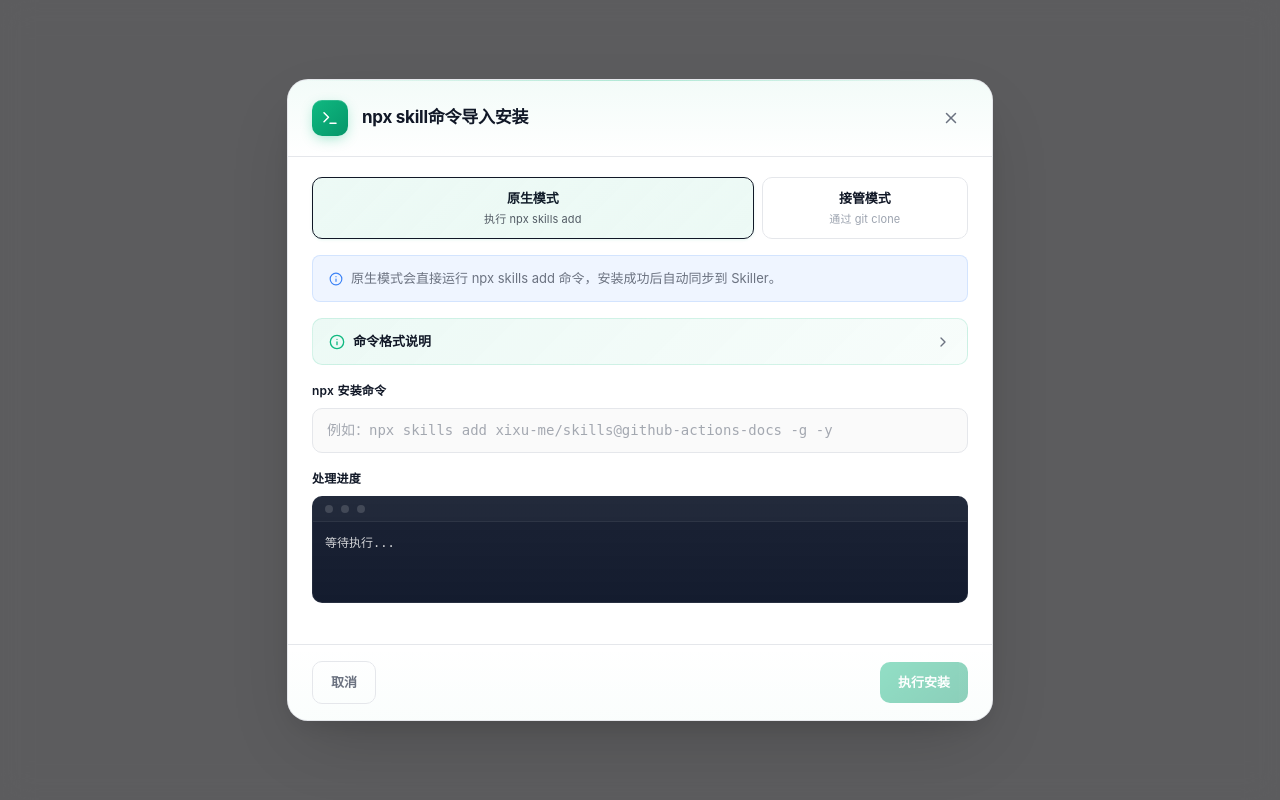
Test case: NpxImportDialog - Native Mode Error Handling › should show friendly error when skill directory does not exist during sync
Type "npx skills add xixu-me/skills@github-actions-docs -g -y" into the field with placeholder "例如：npx skills add xixu-me/skills@github-actions-docs -g -y" at (640, 430), box [312, 408, 968, 453]
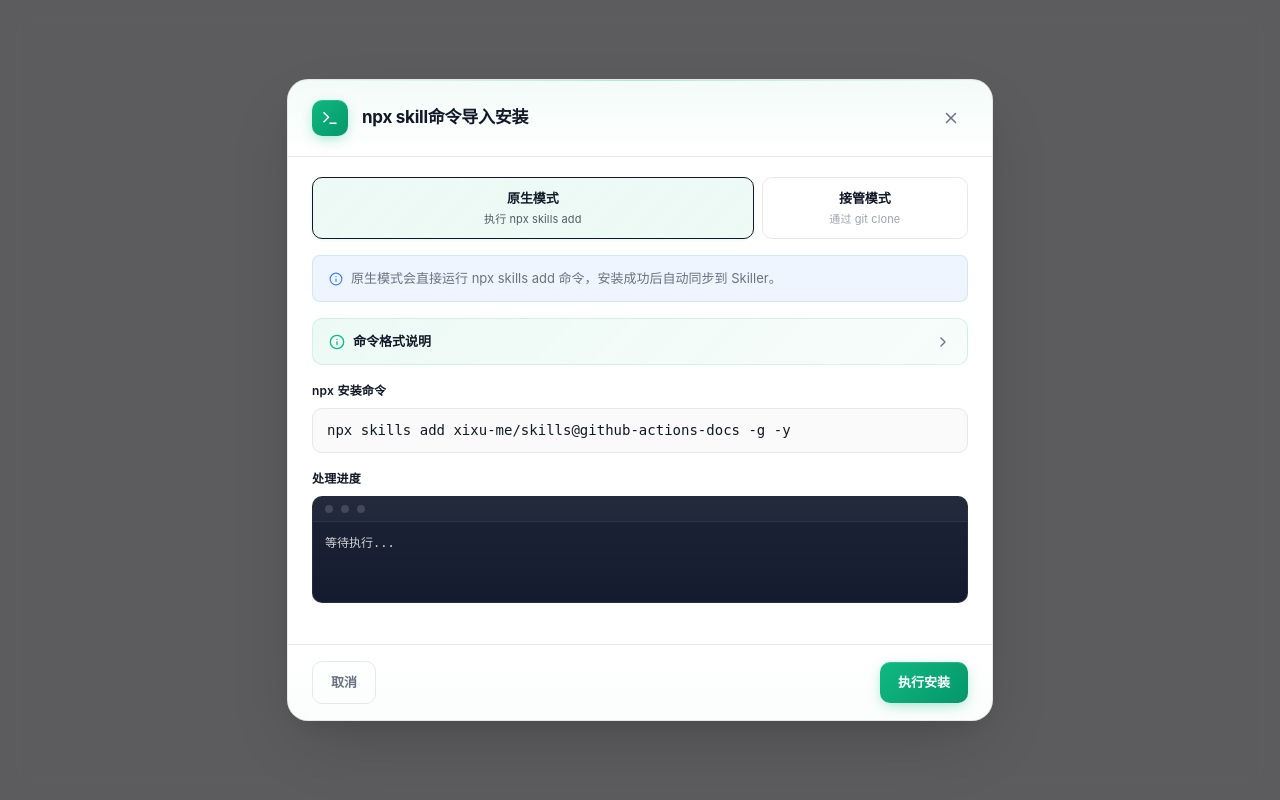
Click the button "执行安装" at (924, 683), box [880, 662, 968, 703]
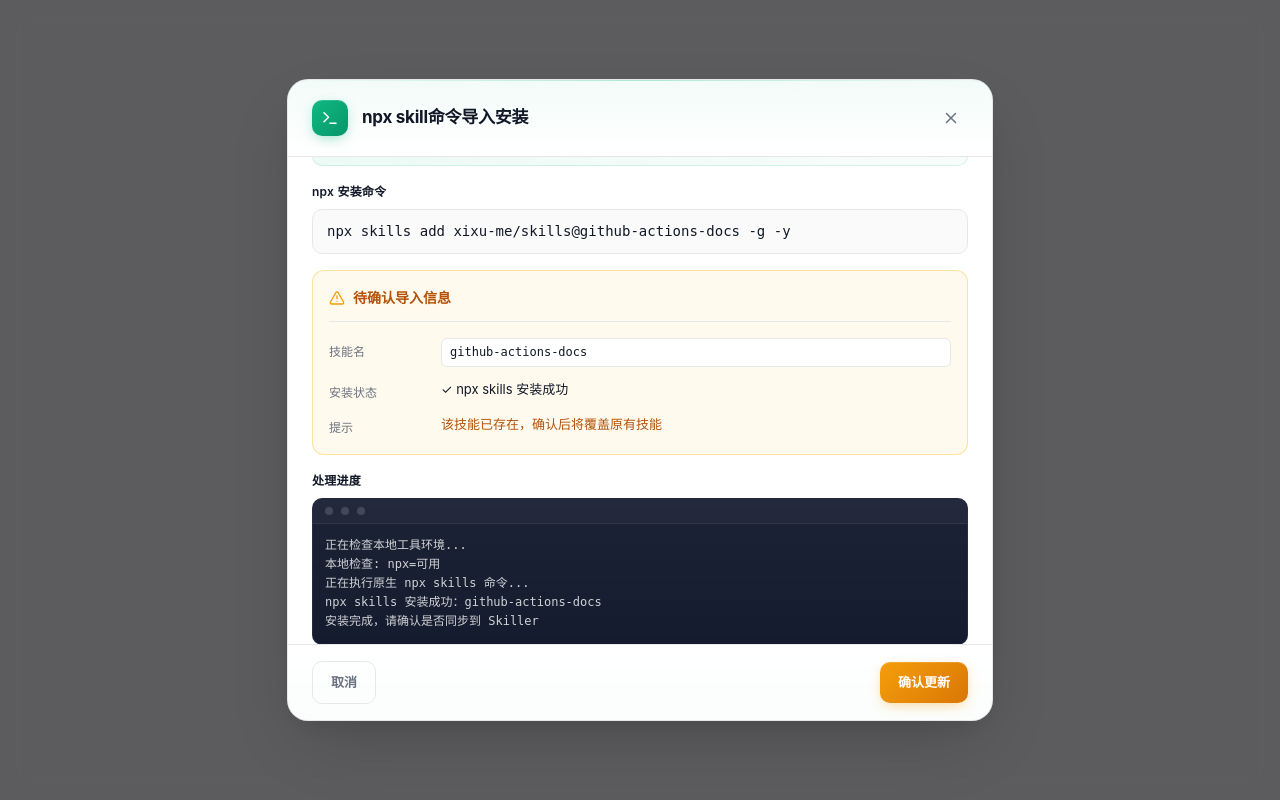
Now the text "待确认导入信息" is shown, box [329, 287, 951, 322]
Click the button "确认更新" at (924, 683), box [880, 662, 968, 703]
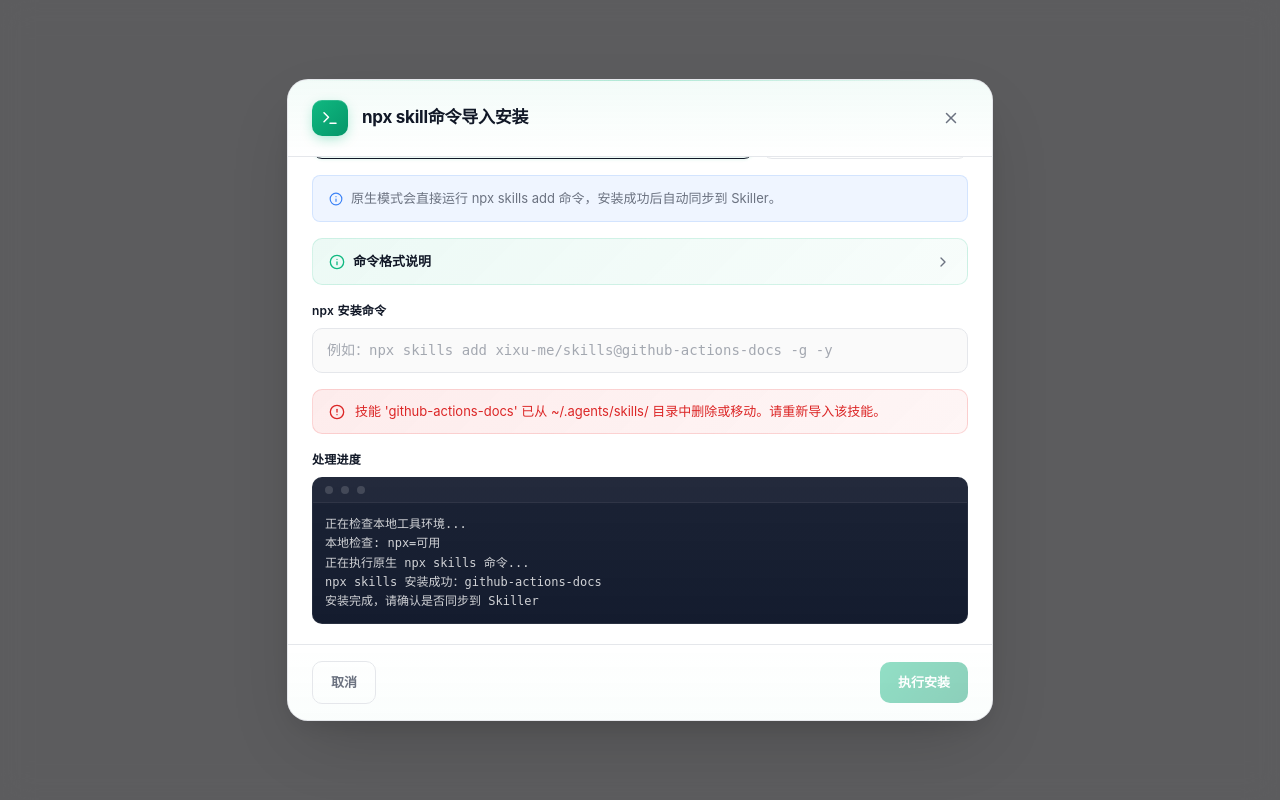
Now the text "删除或移动" is shown, box [355, 403, 886, 419]
